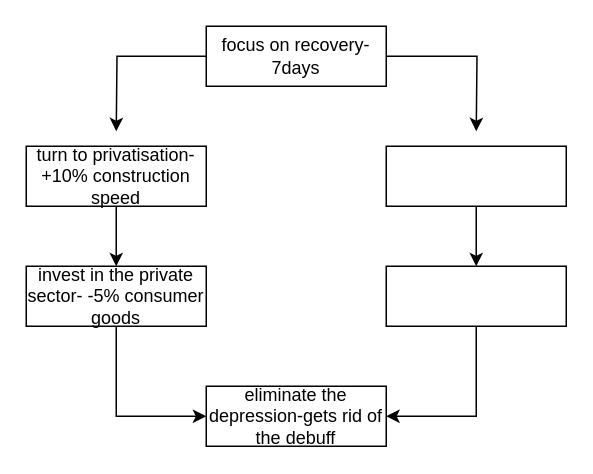
The diagram is 593 pixels wide and 474 high, and some of its shapes have lost their labels. The box of each missing label's shape, as (x1, y1, x2, y2) in pixels:
invest in the public sector- add 5 civ: (385, 265, 566, 326)
turn to state industries-add 5 civ: (385, 145, 566, 206)
